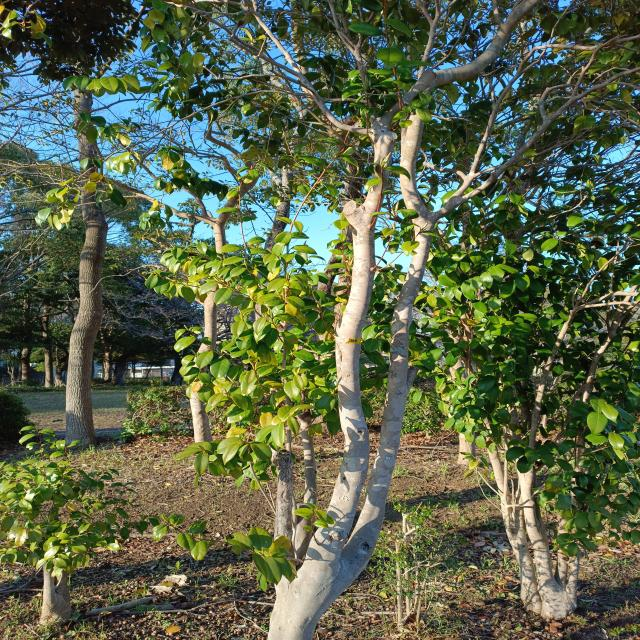Branch: (304, 0, 542, 555), (352, 210, 430, 572), (401, 109, 427, 226)
Twig: (445, 35, 638, 207), (435, 67, 639, 218), (165, 0, 371, 137), (84, 90, 368, 173), (522, 0, 575, 72), (539, 72, 610, 120), (203, 65, 316, 94), (476, 160, 640, 176), (420, 147, 466, 181), (491, 0, 505, 25)
